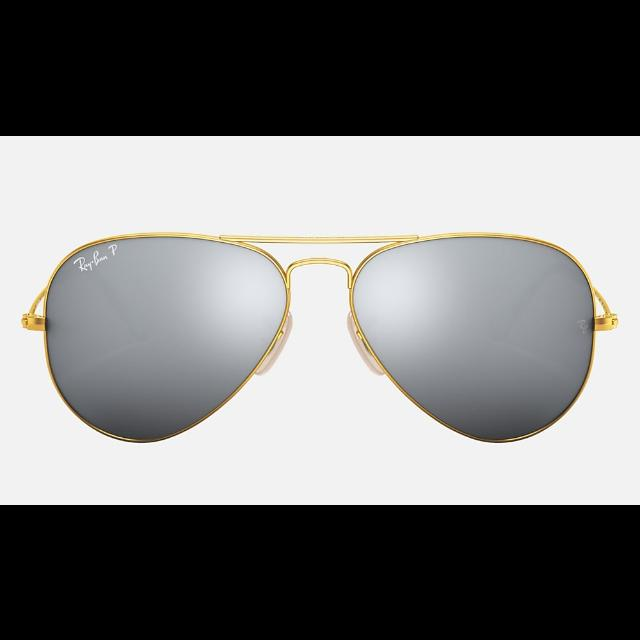Sunglasses: (26, 230, 620, 444)
